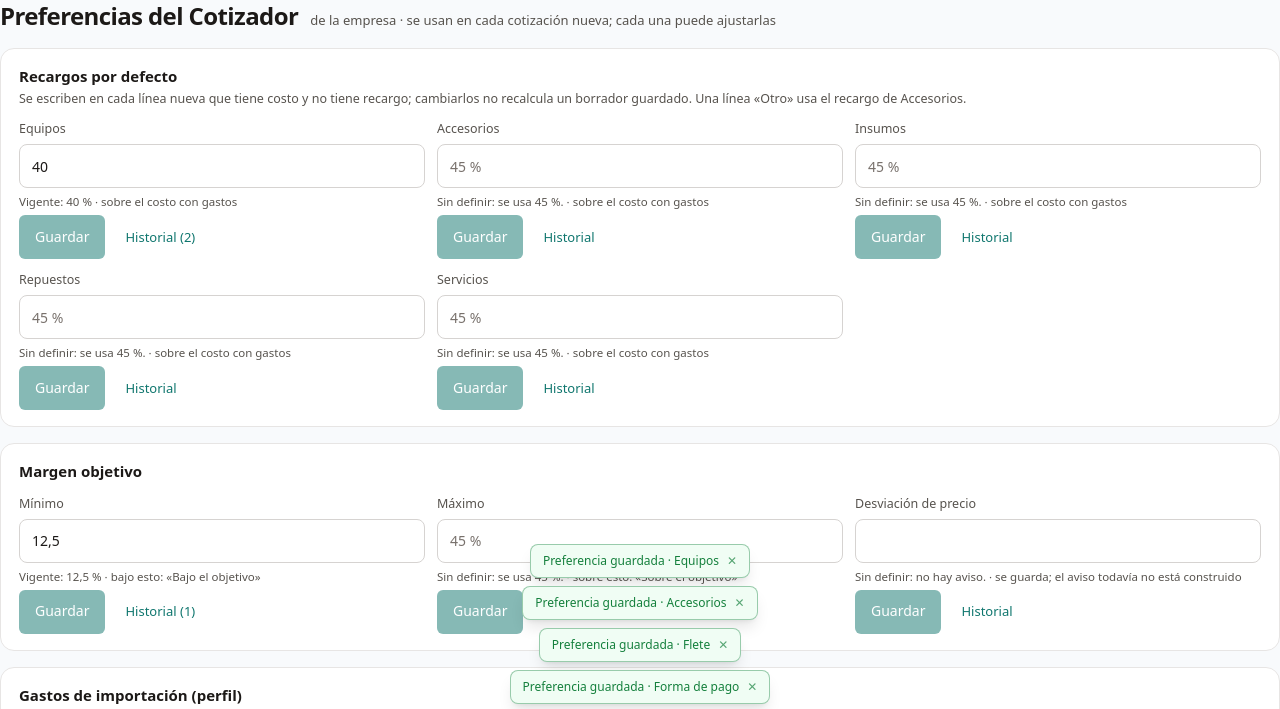
Test: PreferencesPage — saving › someone else changed it (409 parameter_changed): «Otra persona lo cambió; recarga.», and «Recargar» reads again
The width and height of the screenshot is (1280, 709).
Step 1. Replace the text in the field labelled "Equipos" with "50" → [222, 166], box [19, 144, 425, 188]
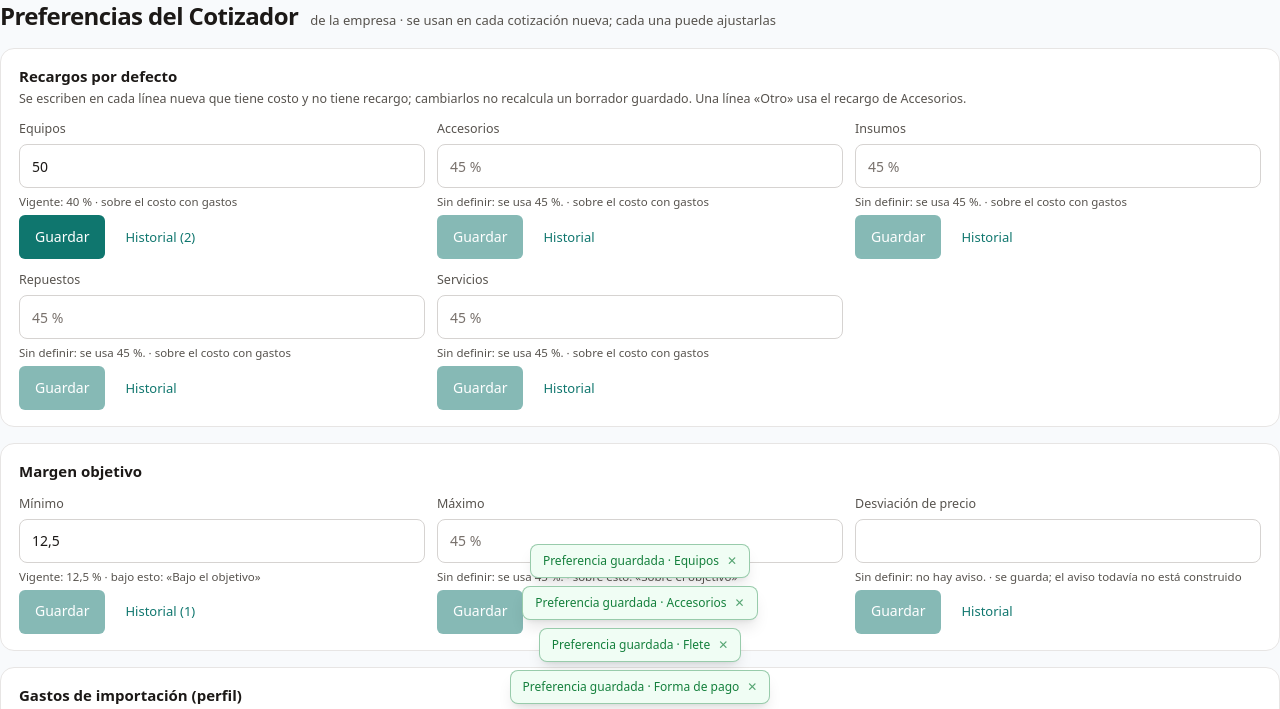
Step 2. Click the button with aria-label "Guardar Equipos" → [62, 237], box [19, 215, 106, 259]
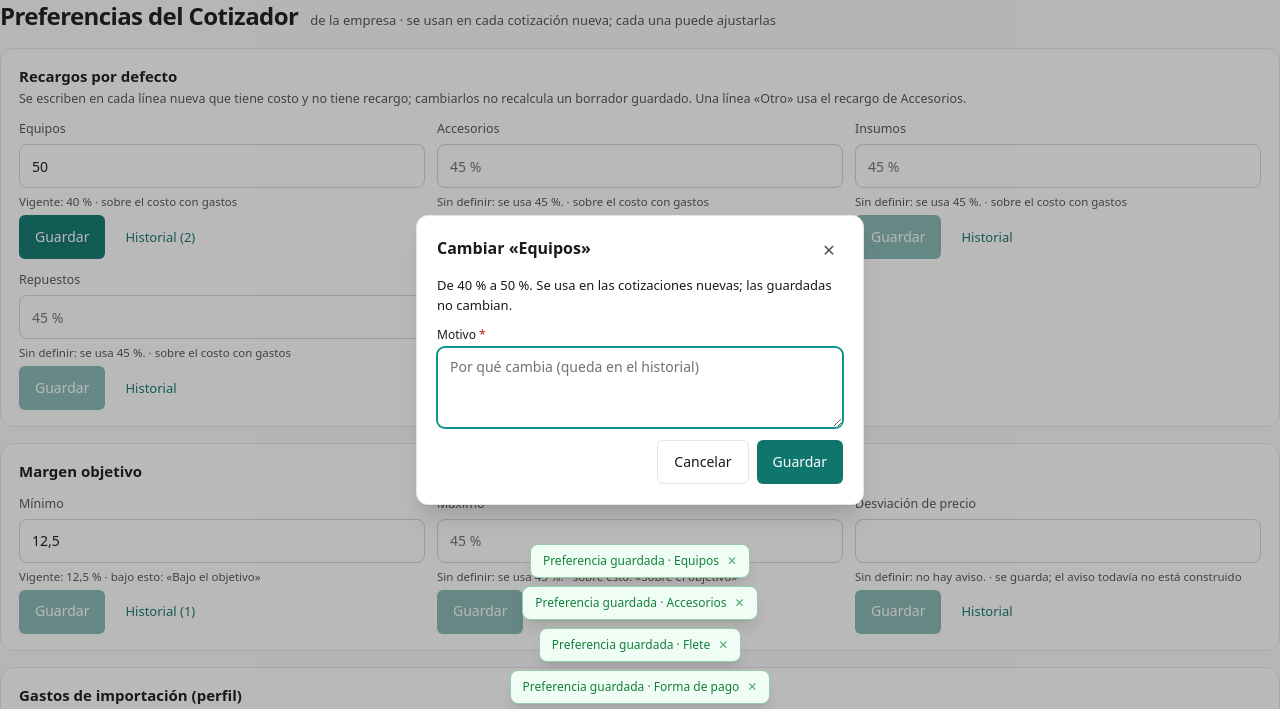
Step 3. Type "Ajuste de prueba" into the text box labelled "Motivo *" → [640, 388], box [437, 347, 843, 428]
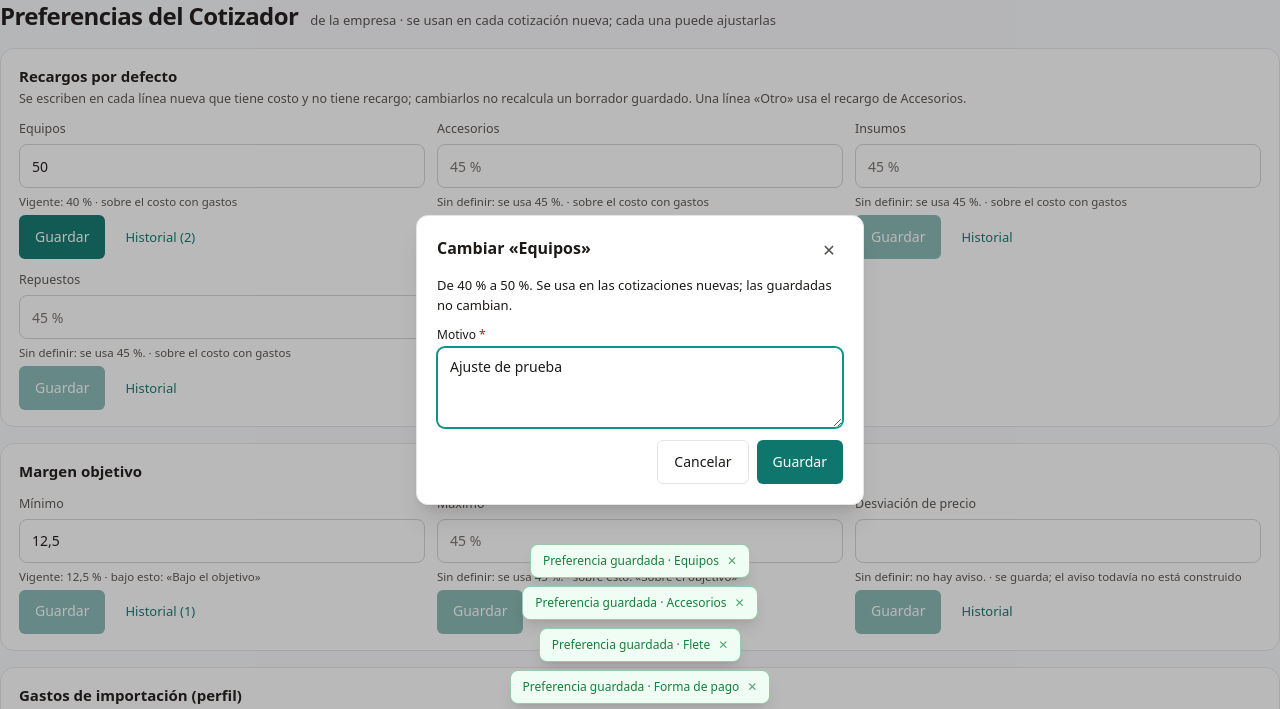
Step 4. Click the button "Guardar" → [800, 462], box [756, 440, 843, 484]
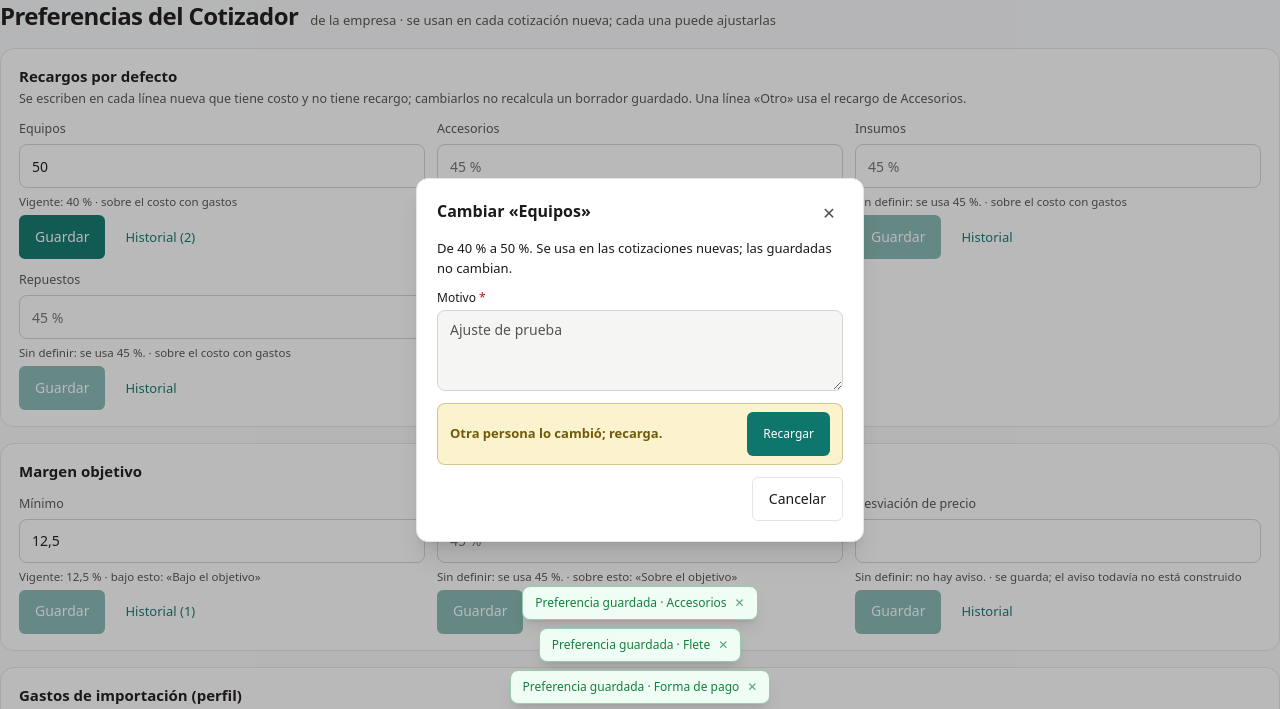
Result: the text "Otra persona lo cambió; recarga." is shown at [450, 424, 662, 444]
Step 5. Click the button "Recargar" → [789, 434], box [747, 412, 830, 456]
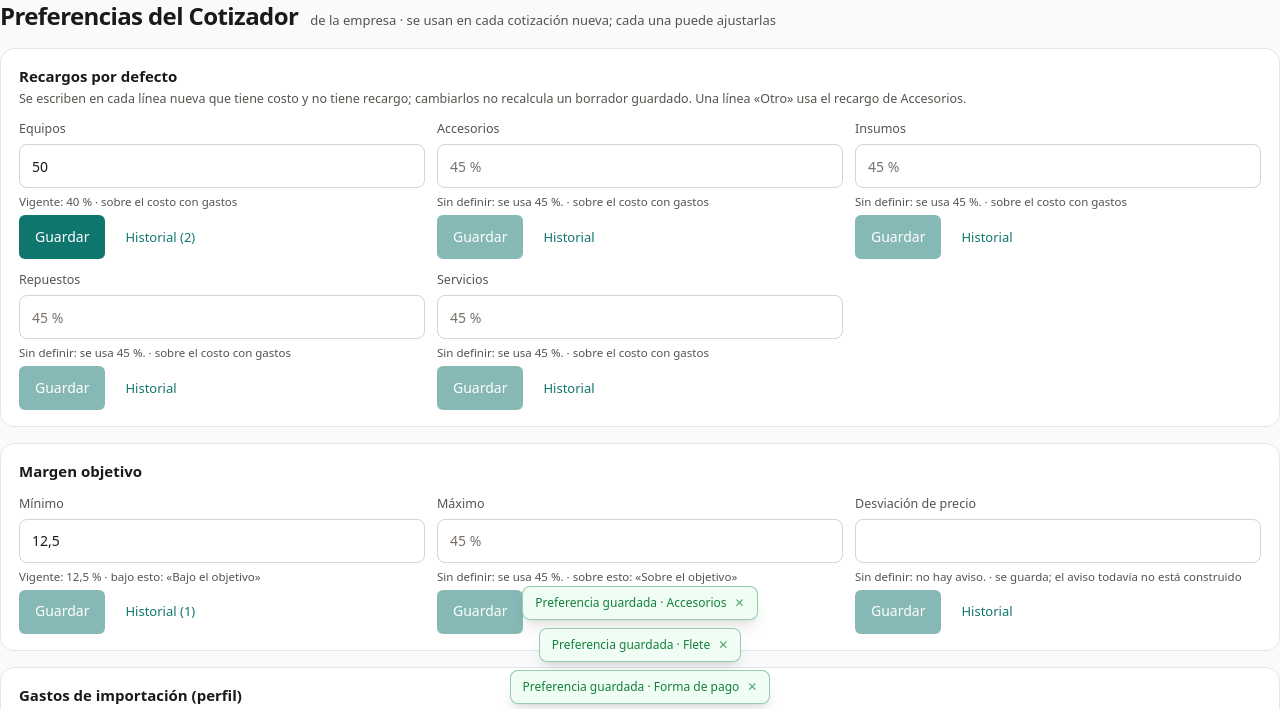
Result: the dialog is gone
